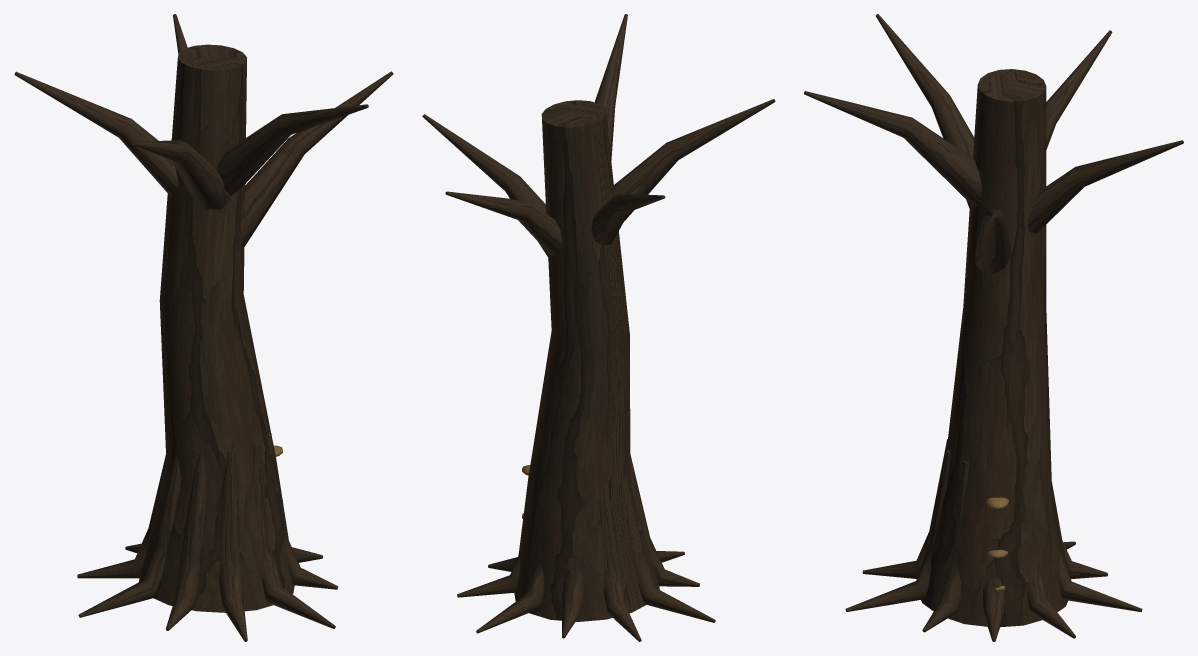
3 views of the same model, side by side, from view 1: azimuth 30°, elevation 25°; view 2: azimuth 150°, elevation 25°; view 3: azimuth 270°, elevation 25° (orthographic). The views are drawn at different scales.
Parts seen in each view (by area): view 1: Ancient trunk; view 2: Ancient trunk; view 3: Ancient trunk.
Boxes of the visible parts, left/top/right/bottom form: Ancient trunk: left=14, top=14, right=393, bottom=641; Ancient trunk: left=422, top=14, right=775, bottom=641; Ancient trunk: left=804, top=14, right=1183, bottom=641.
Bounding box in the file's own units: 20.01 × 32.36 × 21.03.
Materials: 2 (1 with a texture image).
